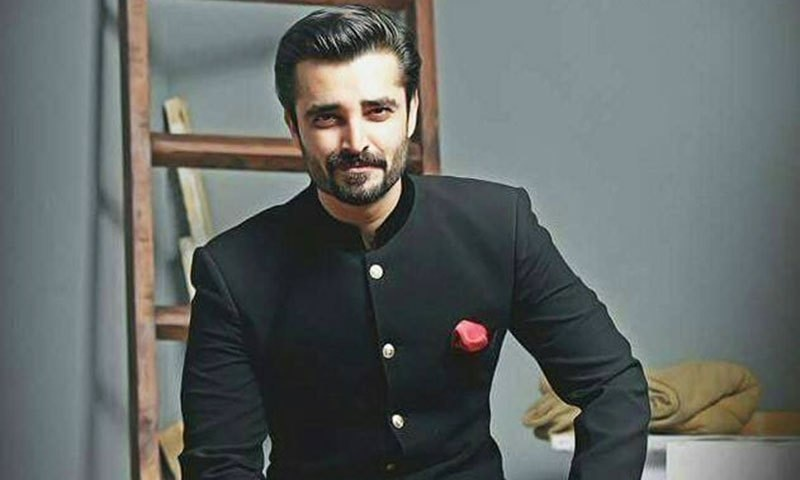bad: (306, 92, 414, 199)
